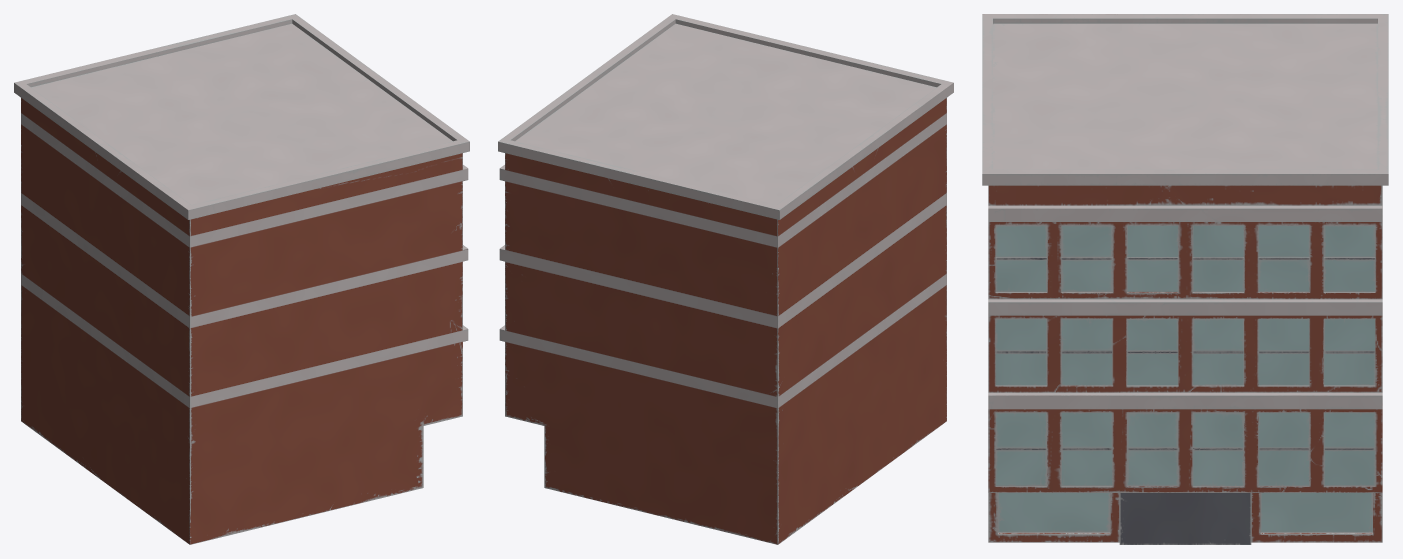
The model's file is House_3.fbx.
3 views of the same model, side by side, from view 1: azimuth 30°, elevation 25°; view 2: azimuth 150°, elevation 25°; view 3: azimuth 270°, elevation 25° (orthographic). The views are drawn at different scales.
Parts seen in each view (by area): view 1: House 2.001; view 2: House 2.001; view 3: House 2.001.
Boxes of the visible parts, box(x1,y1,x2,y2) form: House 2.001: box(14, 14, 469, 544); House 2.001: box(498, 14, 953, 544); House 2.001: box(982, 14, 1388, 544).
Size of the model in its own units: 193 by 220 by 206.
Materials: 1 (1 with a texture image).
